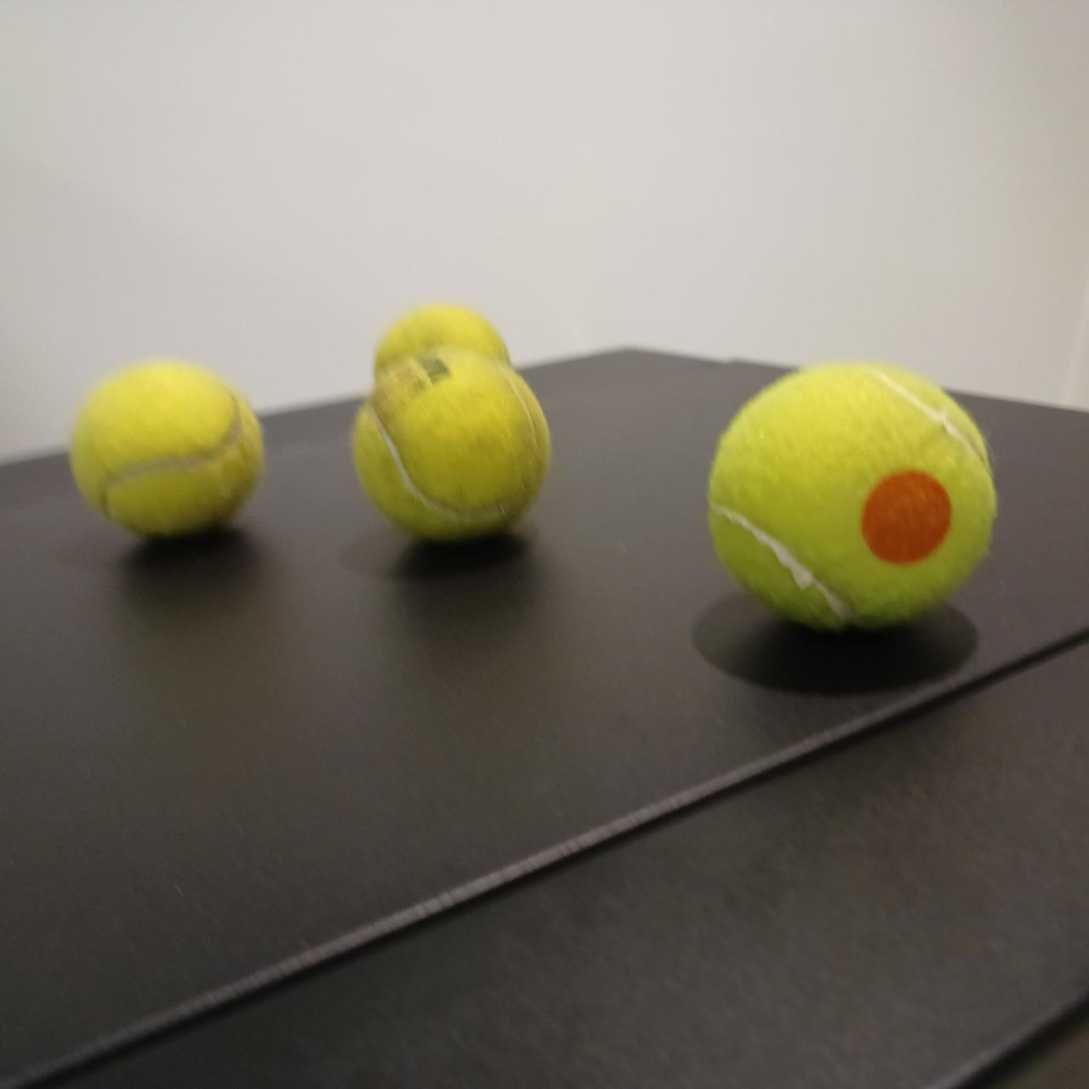tennis-ball: (707, 361, 996, 630), (354, 348, 551, 538), (74, 360, 263, 532), (371, 305, 514, 441)
